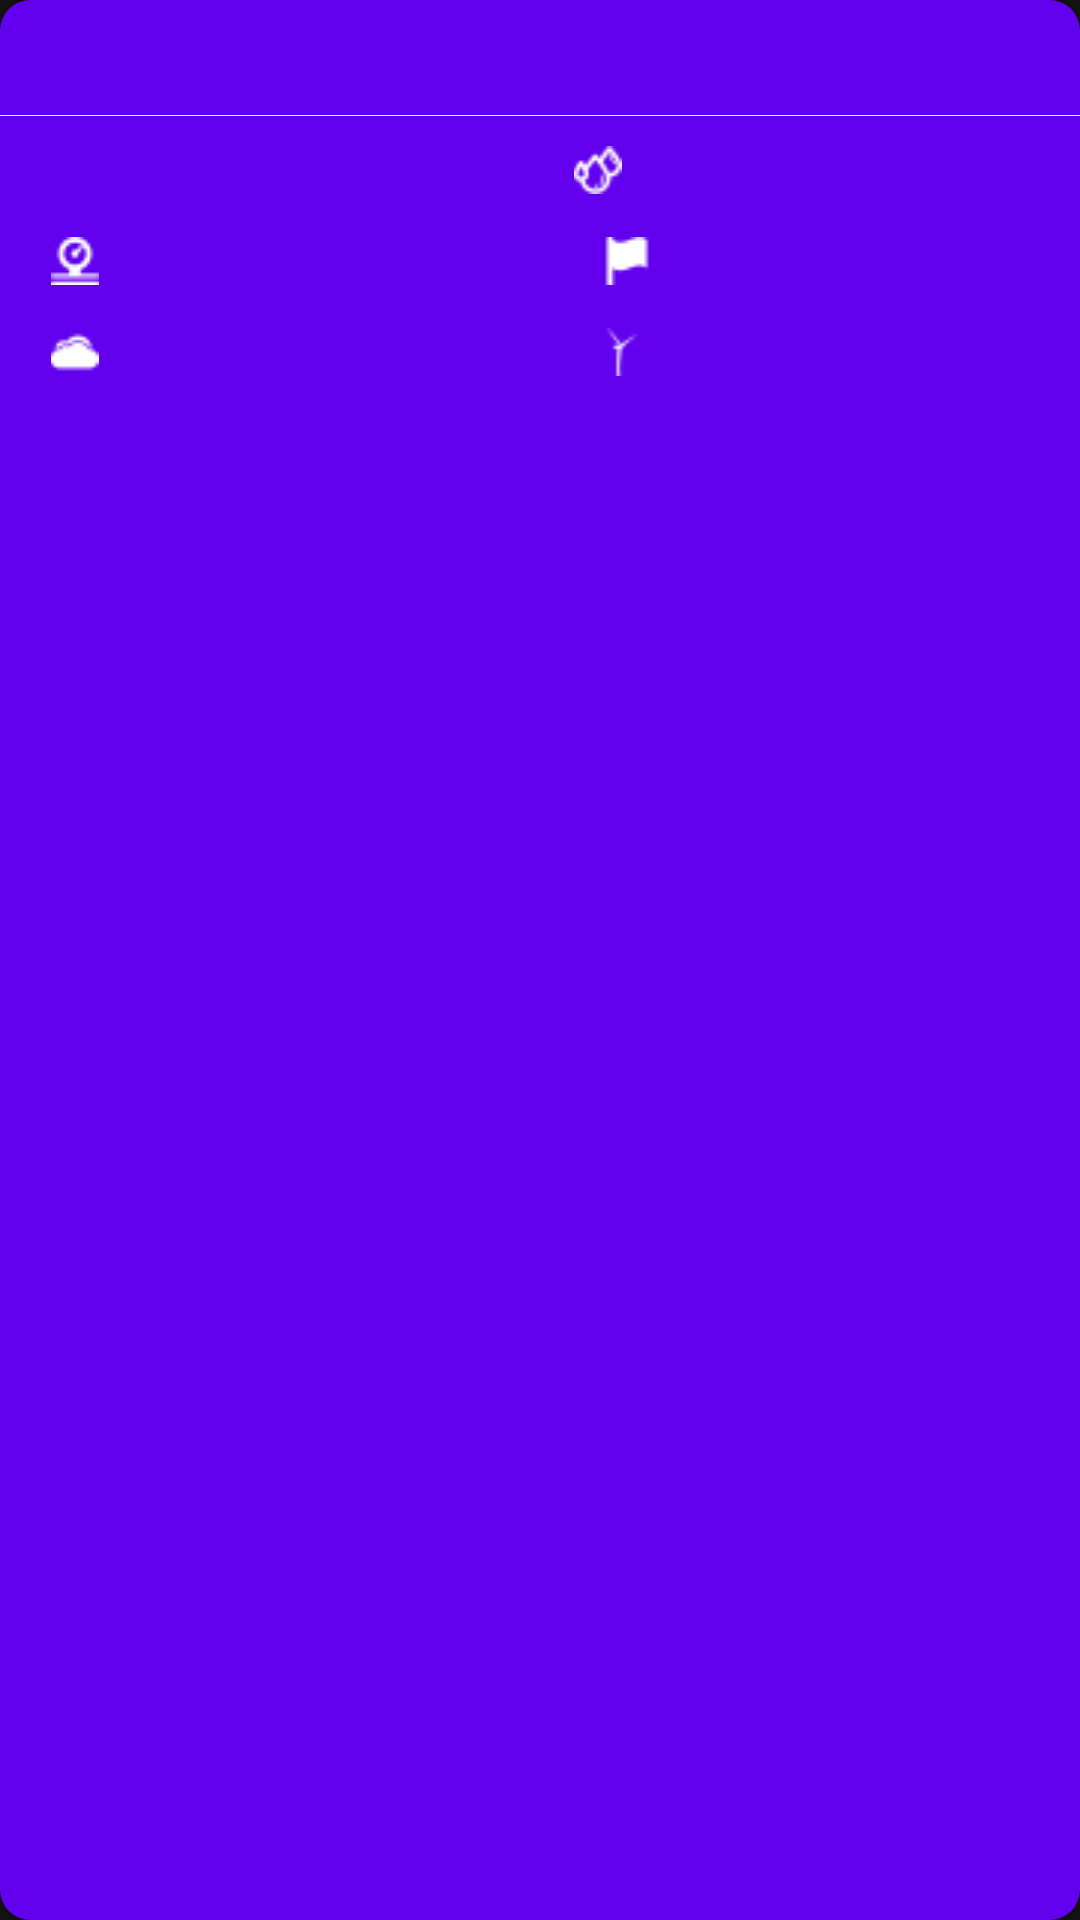

Where to tap for icons on this 1080px×1920px app screen, as [x,y]:
cloud: [75,352]
flag: [627,261]
humidity: [598,170]
pressure: [75,261]
windmill: [622,352]
